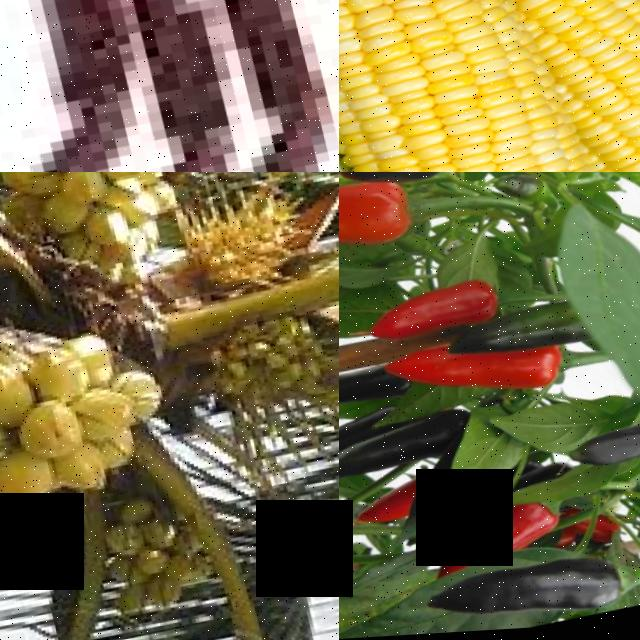chilli: (349, 279, 506, 350), (339, 172, 420, 282)
coconuts: (0, 331, 148, 527), (0, 172, 177, 262)
corn: (339, 0, 640, 172), (518, 0, 640, 172)
crab: (0, 0, 337, 172)
